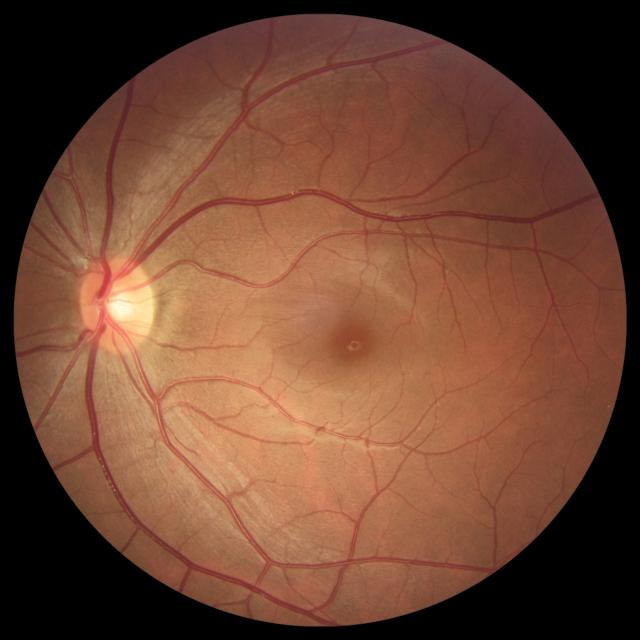OC: (95, 284, 136, 324)
OD: (80, 256, 154, 351)
